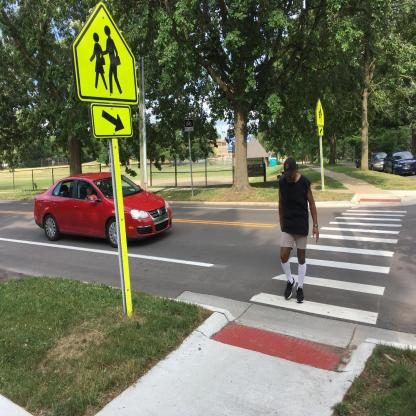Crosswalk: (242, 199, 414, 312)
